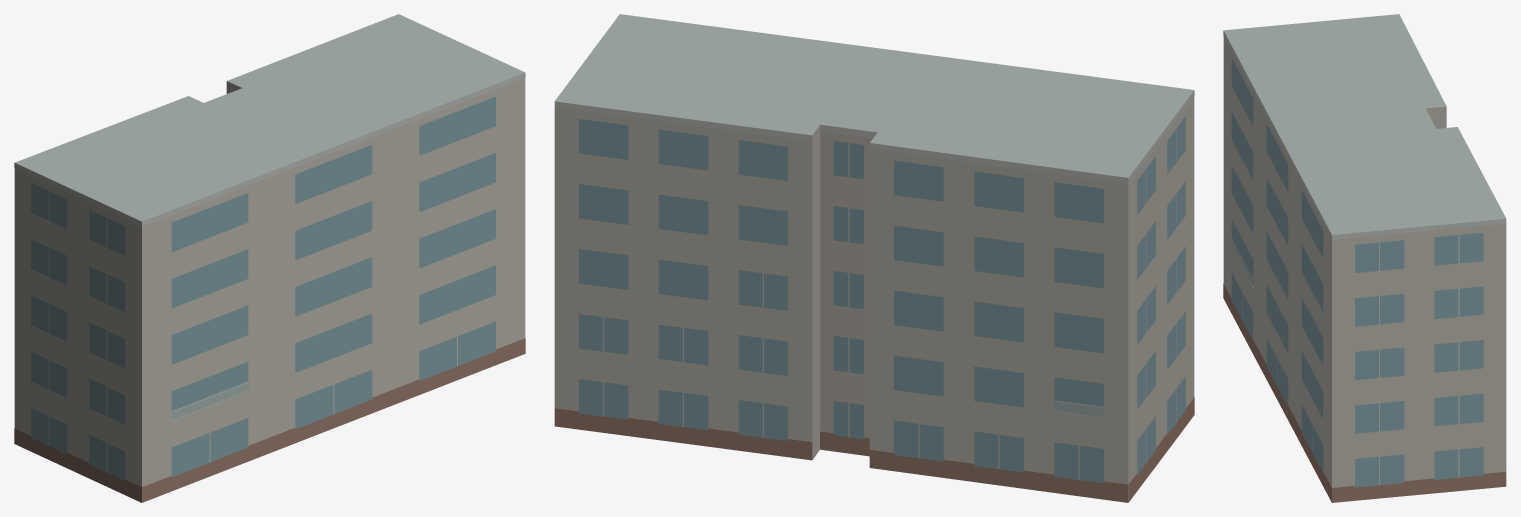
Rendered from survey-upis-33030497.glb.
The picture shows the model from 3 angles, left to right: view 1: azimuth 30°, elevation 25°; view 2: azimuth 150°, elevation 25°; view 3: azimuth 270°, elevation 25°; orthographic projection. The views are drawn at different scales.
Parts seen in each view (by area): view 1: survey-upis-33030497.tmp; view 2: survey-upis-33030497.tmp; view 3: survey-upis-33030497.tmp.
Boxes of the visible parts, x1,y1,x2,y2 form: survey-upis-33030497.tmp: [14, 14, 525, 502]; survey-upis-33030497.tmp: [554, 14, 1194, 502]; survey-upis-33030497.tmp: [1223, 14, 1506, 502].
Bounding box in the file's own units: 23.01 × 13 × 12.46.
